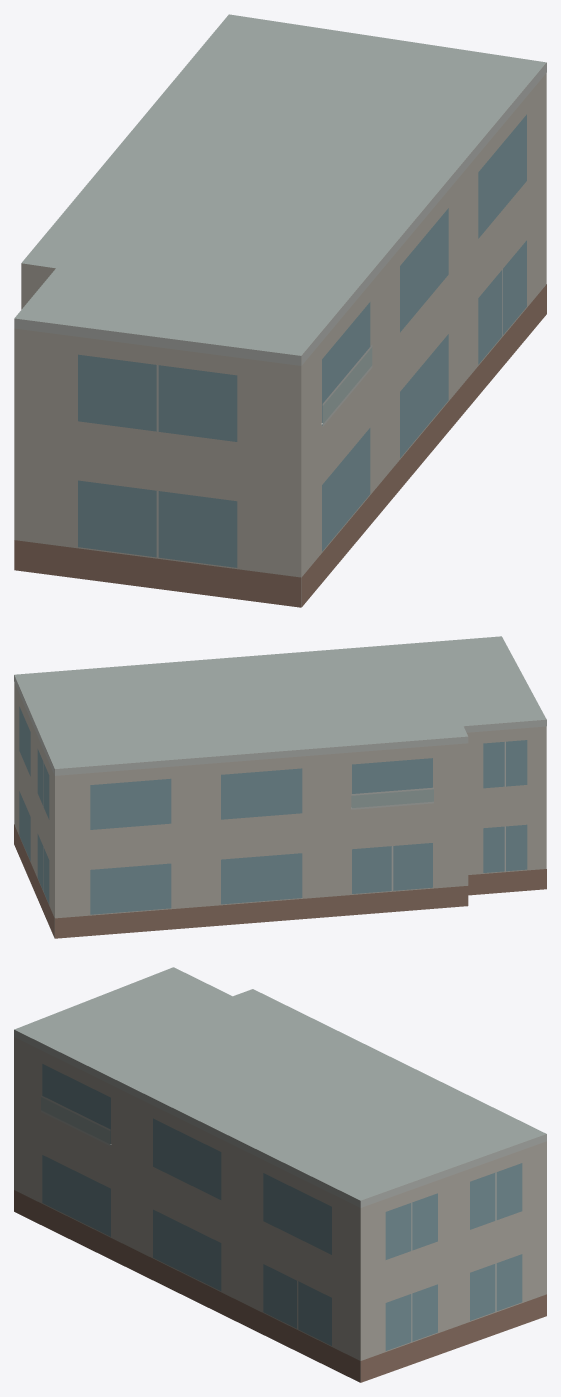
Rendered from survey-upis-32775374.glb.
The picture shows the model from 3 angles, top to bottom: view 1: azimuth 30°, elevation 25°; view 2: azimuth 150°, elevation 25°; view 3: azimuth 270°, elevation 25°; orthographic projection. The views are drawn at different scales.
Parts seen in each view (by area): view 1: survey-upis-32775374.tmp; view 2: survey-upis-32775374.tmp; view 3: survey-upis-32775374.tmp.
Part boxes in pixels (x1,y1,x2,y2): survey-upis-32775374.tmp: [14, 14, 546, 607]; survey-upis-32775374.tmp: [14, 636, 546, 938]; survey-upis-32775374.tmp: [14, 967, 546, 1382].
Size of the model in its own units: 16.79 by 6.1 by 16.18.
